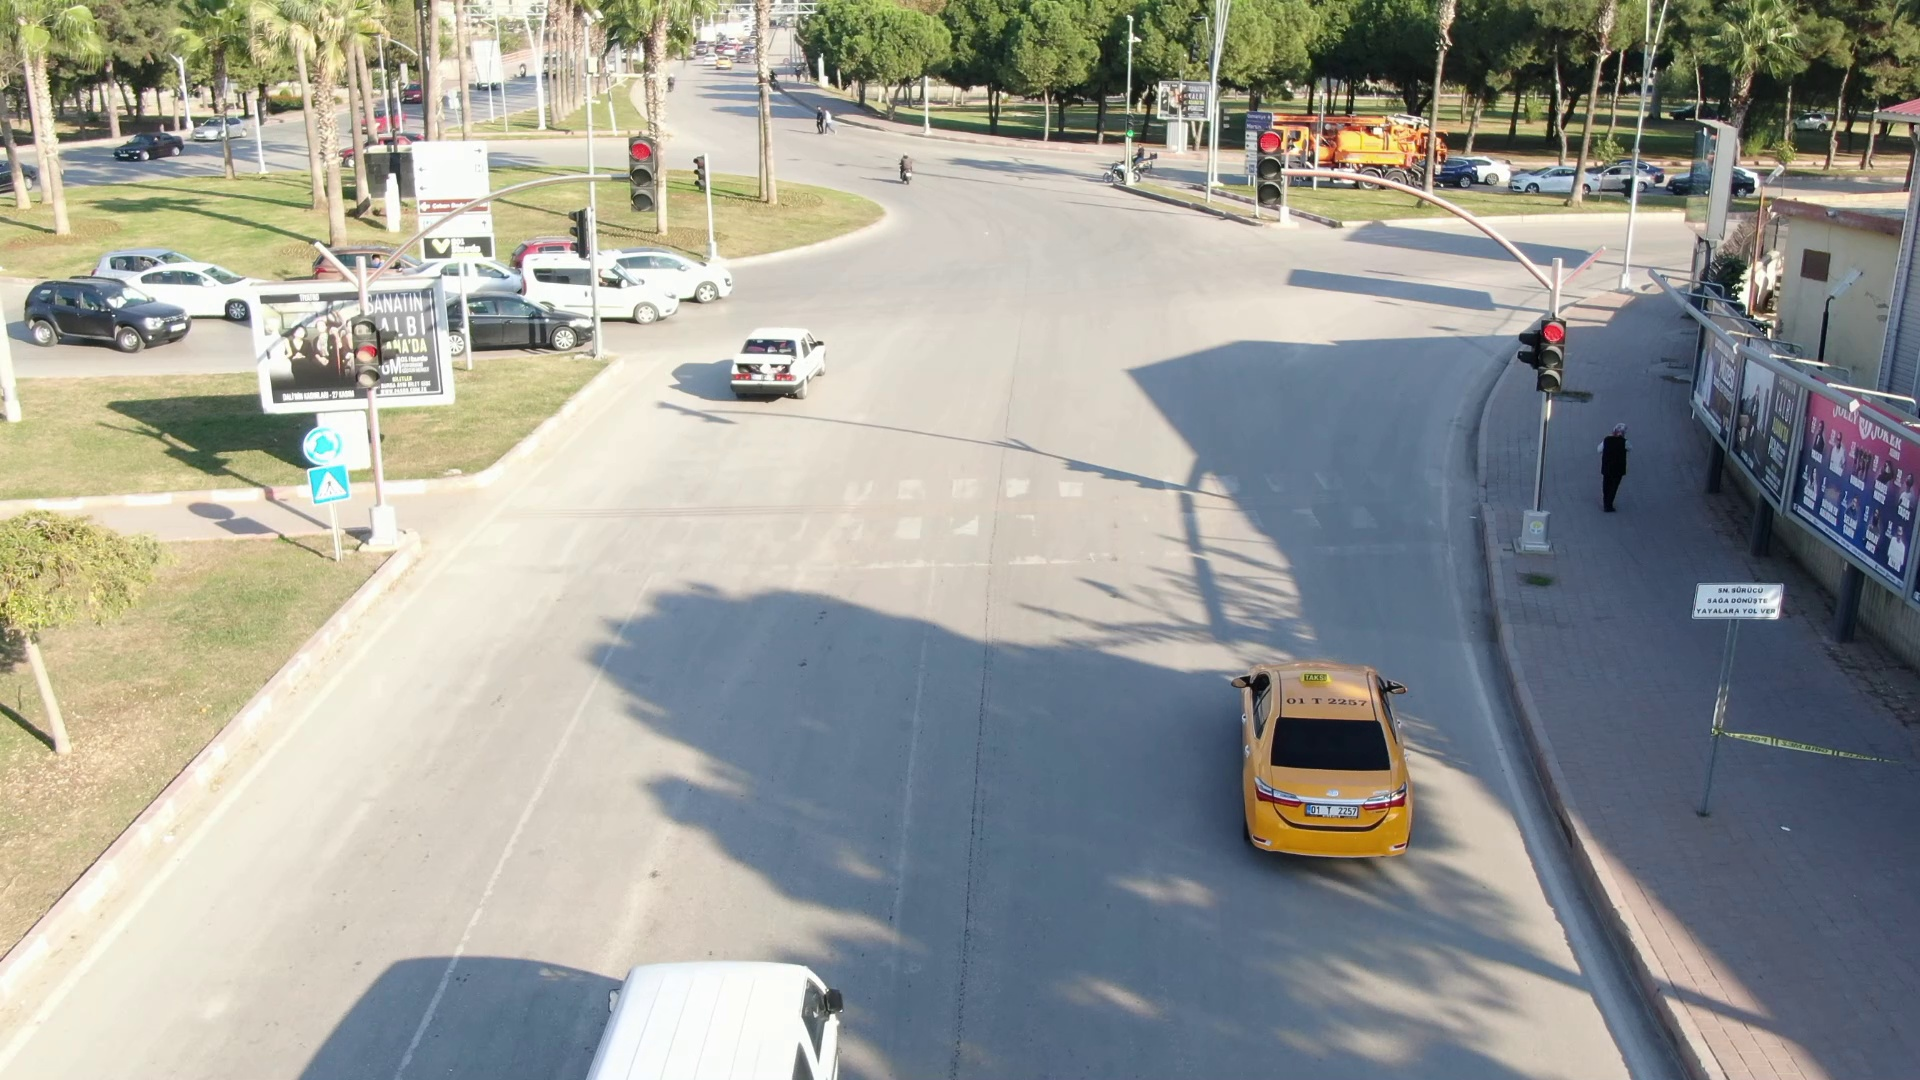car: (1217, 643, 1423, 857), (14, 265, 198, 351), (519, 247, 670, 325), (453, 278, 602, 349), (717, 321, 821, 412), (621, 235, 735, 308)
person: (1592, 414, 1635, 514)
